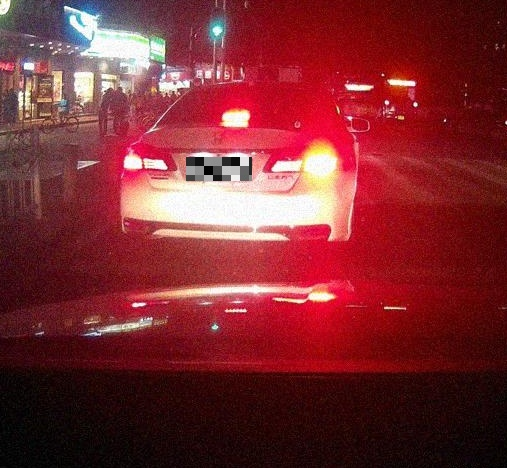L_light: (123, 144, 179, 174)
R_light: (262, 146, 342, 173)
T_light: (222, 111, 250, 123)
night-right: (120, 80, 352, 262)
plate_1: (186, 157, 252, 181)
